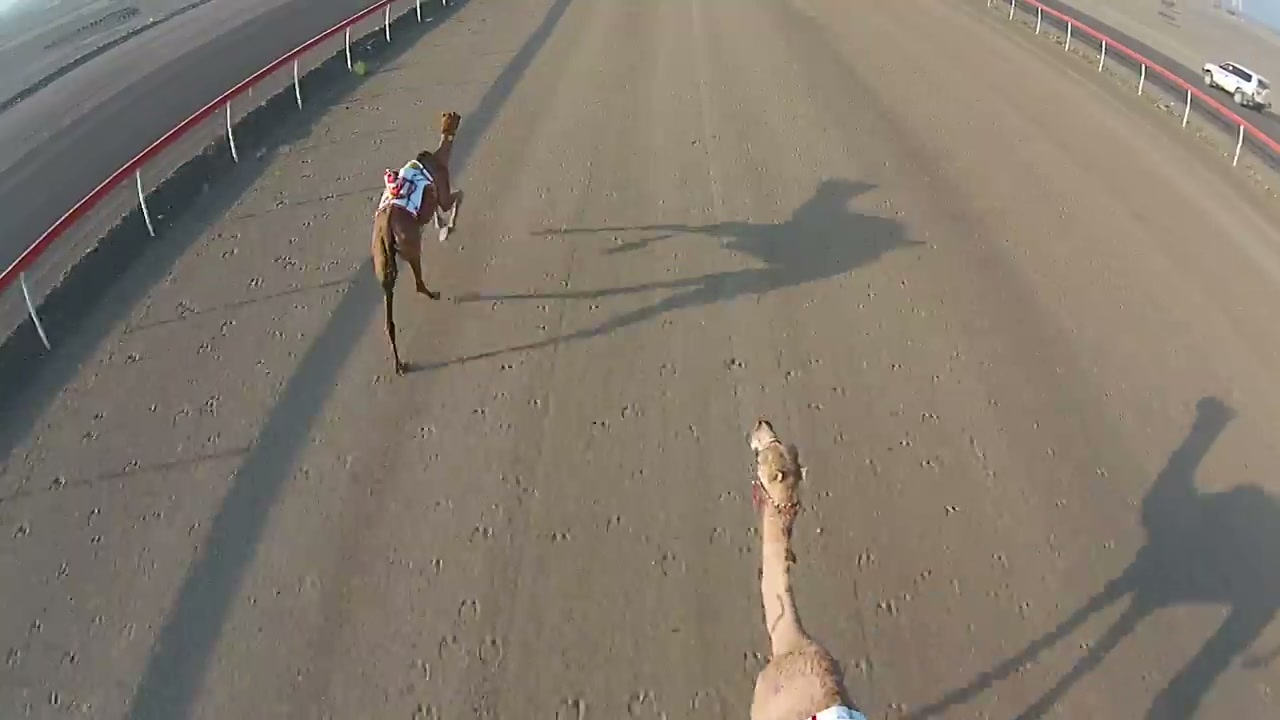animal_foot_print: (0, 177, 313, 717), (369, 298, 609, 719)
